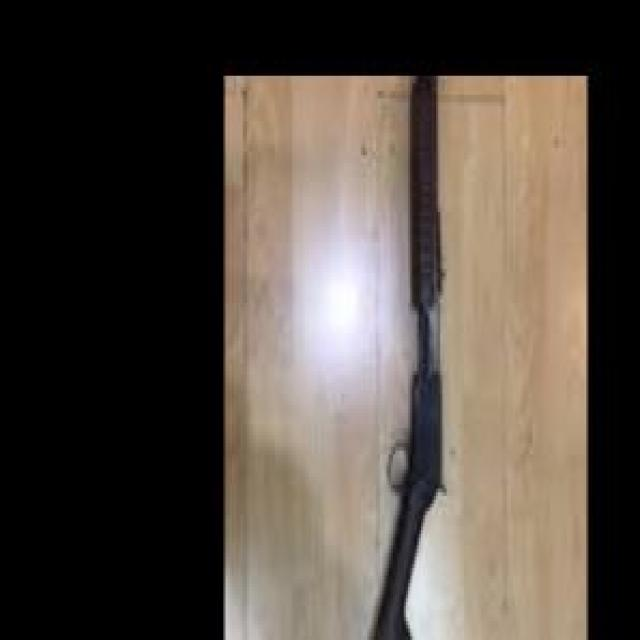heavy-weapon: (373, 75, 447, 640)
